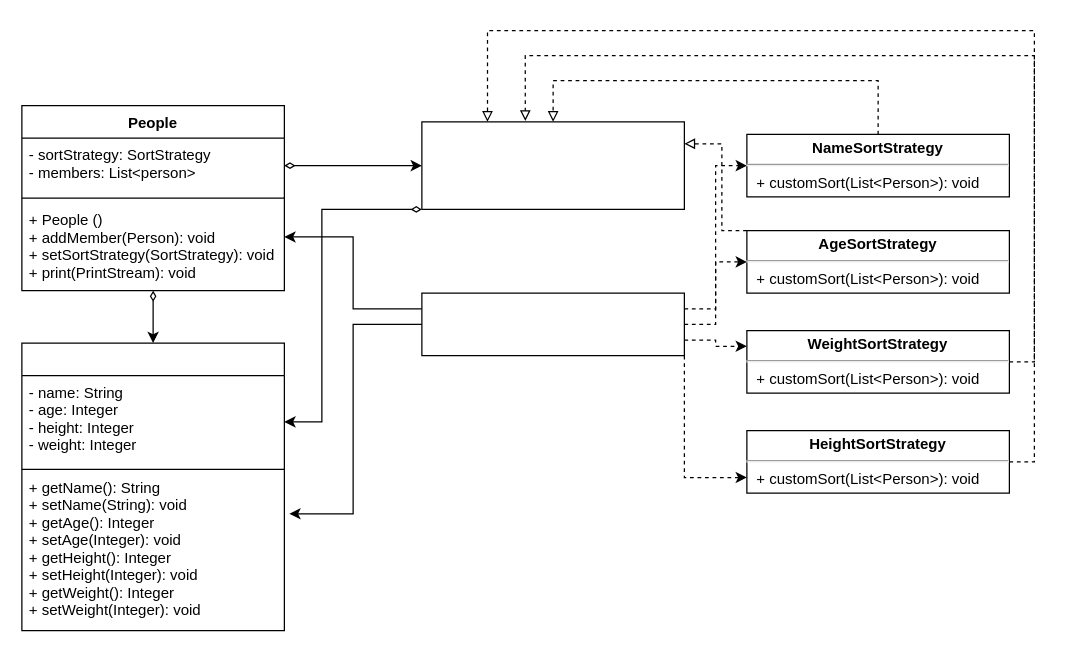
The diagram is 1066 pixels wide and 656 high, and some of its shapes have lost their labels. Here are the shapes that lost their labels. From the top down, the box of each, then its label:
(421, 121, 684, 209): «interface» SortStrategy + customSort(List<person>): void
(421, 292, 684, 356): Main + main(String[]): void
(21, 342, 284, 631): Person
